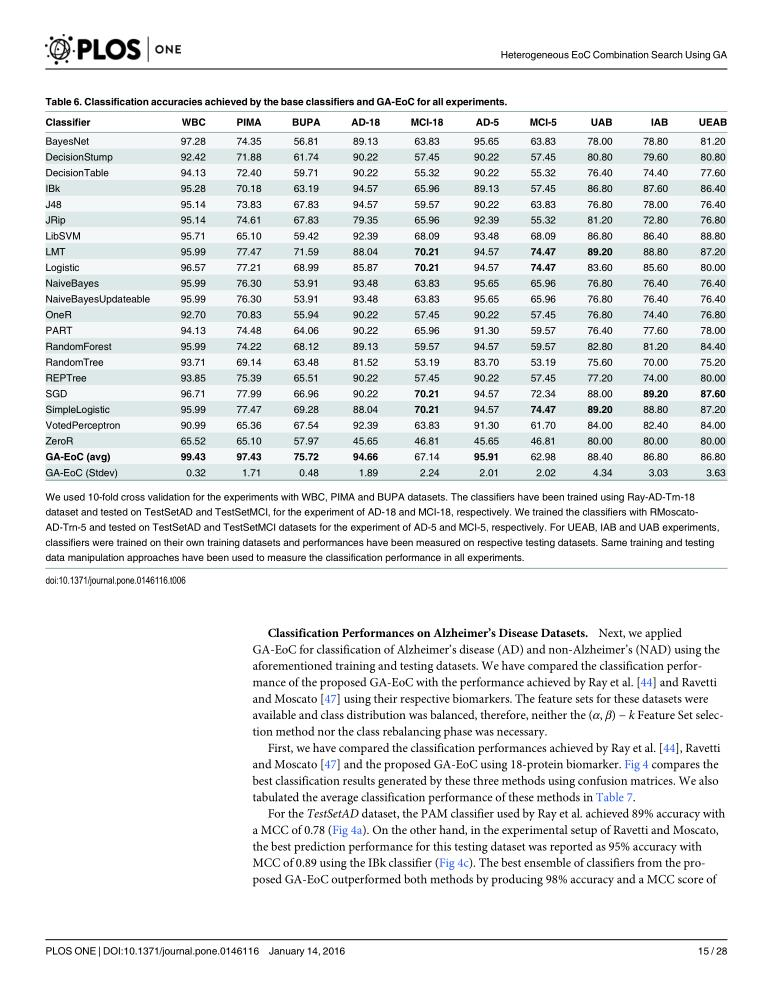table: (45, 116, 726, 478)
